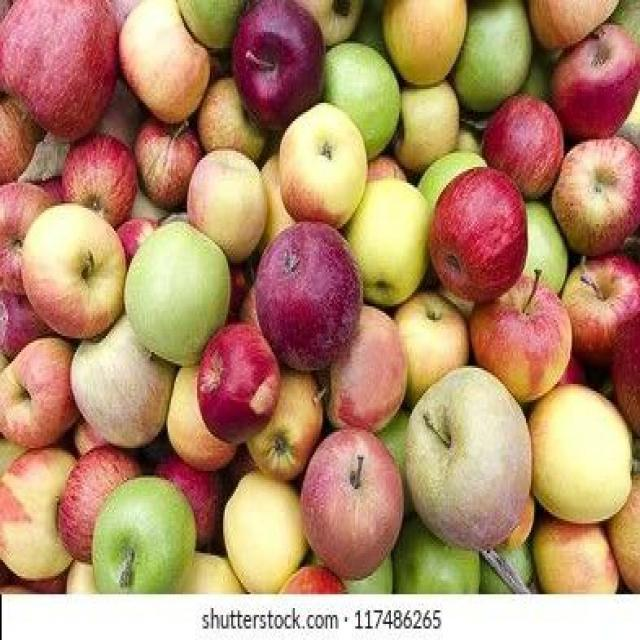Fresh Apple: (415, 378, 532, 557), (0, 0, 128, 136), (247, 235, 360, 373), (117, 228, 230, 355), (302, 433, 396, 575), (15, 208, 123, 324), (427, 180, 528, 292), (232, 8, 328, 118), (273, 112, 365, 223)
